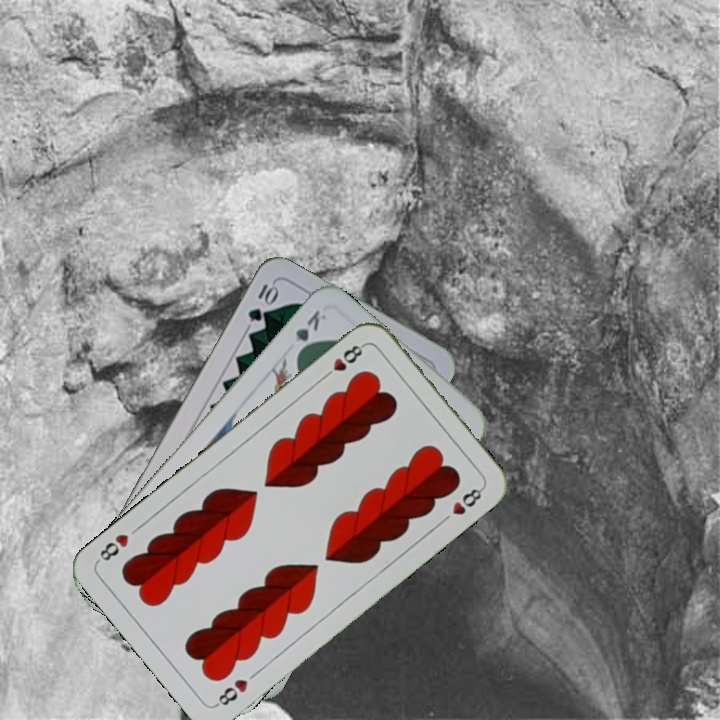G10: (243, 278, 280, 324)
GK: (290, 305, 329, 359)
H8: (318, 340, 368, 382), (211, 675, 251, 710)
